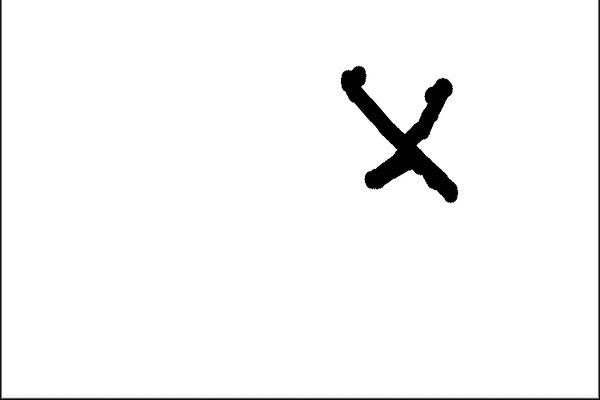X: (320, 56, 496, 208)
